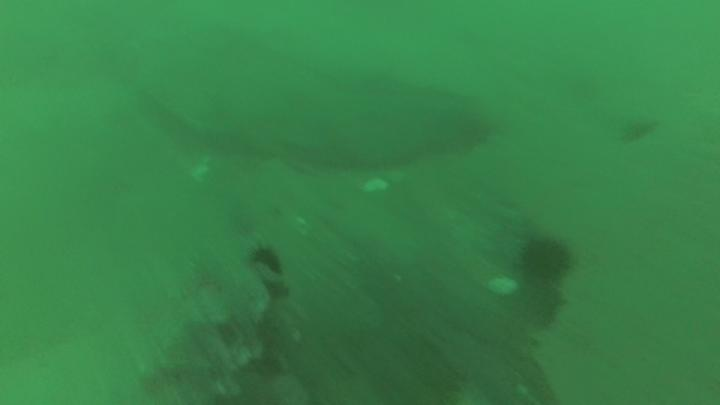echinus: (515, 229, 581, 290), (246, 236, 288, 281)
